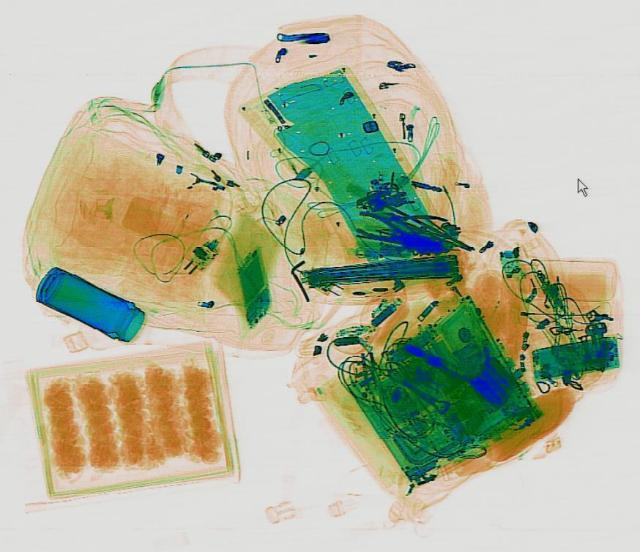Pliers: (348, 207, 432, 253), (380, 206, 446, 236)
